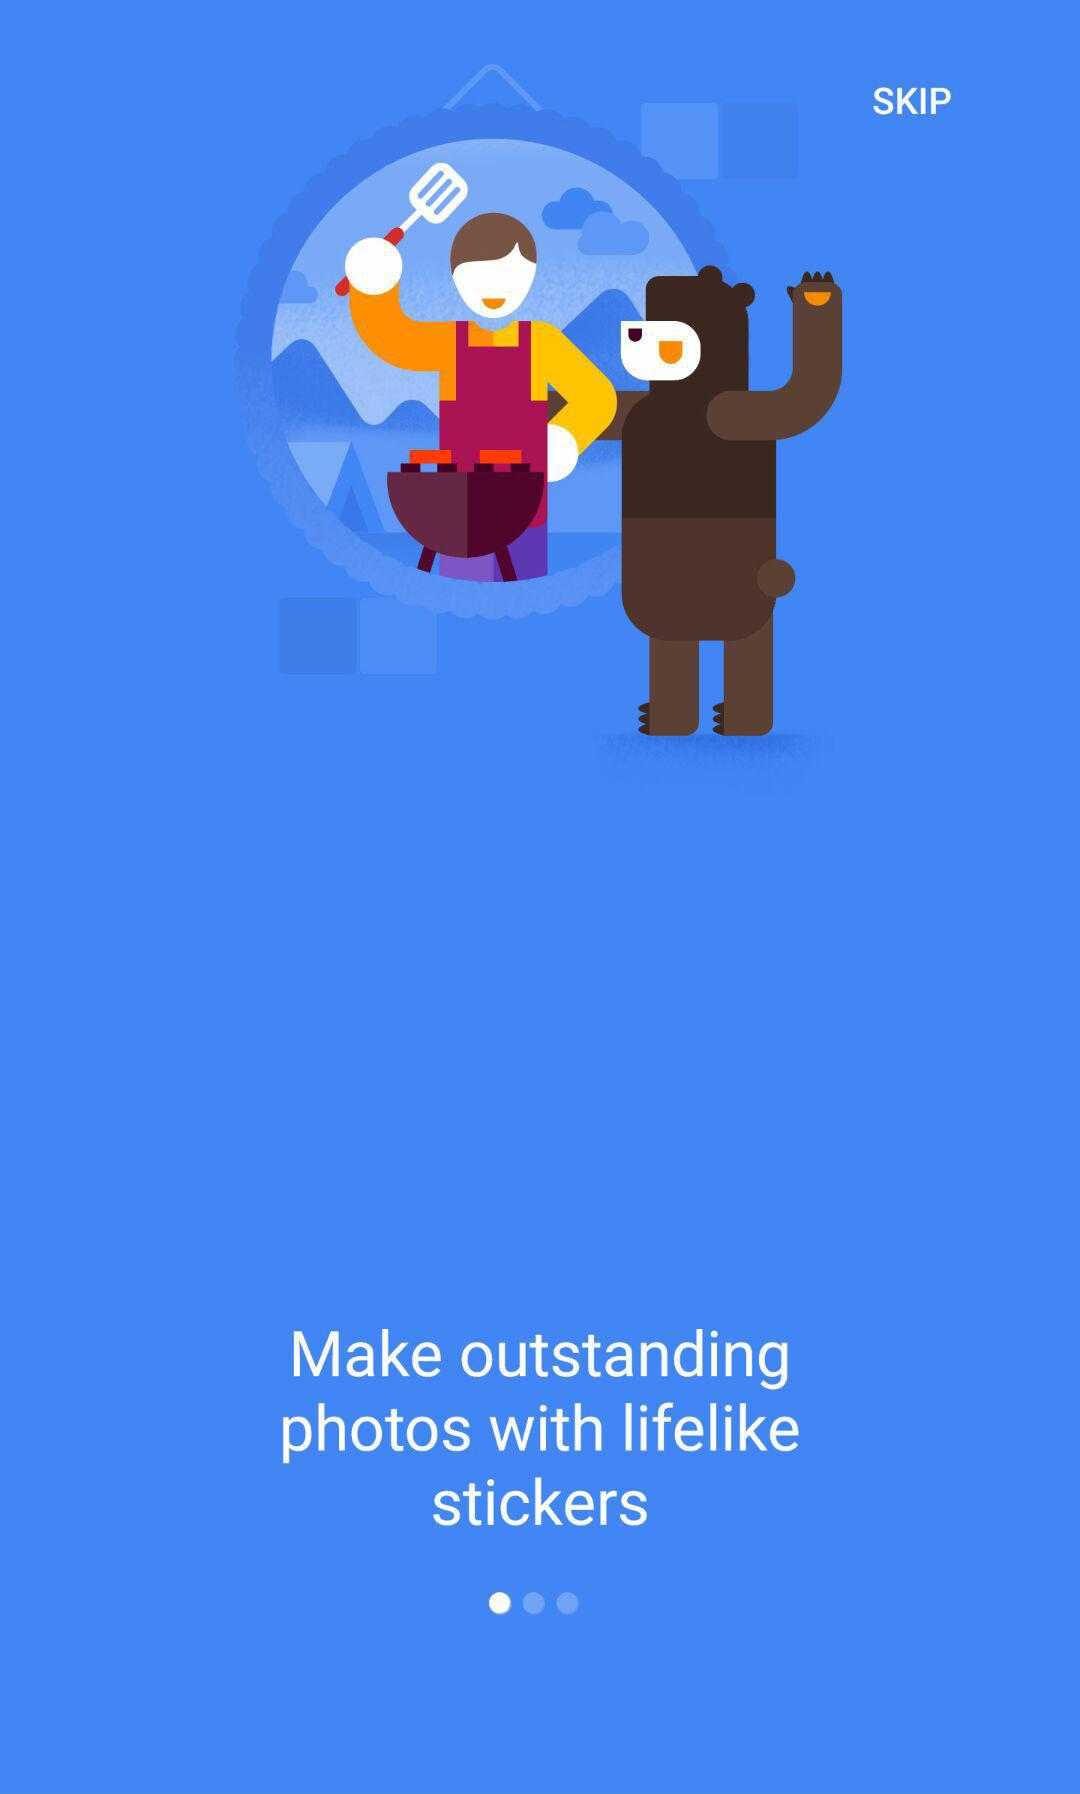Image: (231, 64, 844, 738)
PageIndicator: (488, 1590, 580, 1617)
Text: (282, 1328, 801, 1530), (872, 86, 953, 117)
